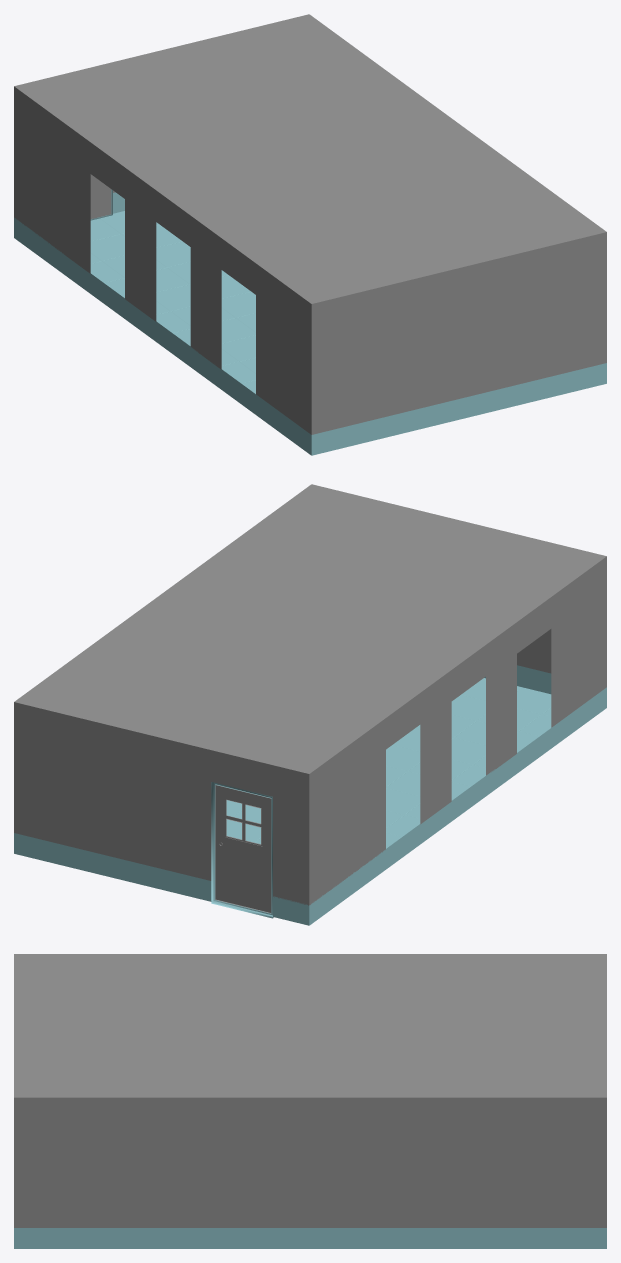
Rendered from HS_I_Background1_Model_V1.FBX.
3 views of the same model, one above another, from view 1: azimuth 30°, elevation 25°; view 2: azimuth 150°, elevation 25°; view 3: azimuth 270°, elevation 25° (orthographic).
Parts seen in each view (by area): view 1: W03, W11, W00; view 2: W03, W11, W00, W04; view 3: W03, W11.
Part boxes in pixels (x1=…): W03: x1=14, y1=14, x2=606, y2=434; W11: x1=14, y1=192, x2=606, y2=455; W00: x1=90, y1=174, x2=111, y2=218; W03: x1=14, y1=484, x2=606, y2=905; W11: x1=14, y1=665, x2=606, y2=925; W00: x1=215, y1=785, x2=271, y2=913; W04: x1=211, y1=782, x2=273, y2=918; W03: x1=14, y1=954, x2=606, y2=1227; W11: x1=14, y1=1228, x2=606, y2=1248.
Bounding box in the file's own units: 452 × 224 × 788.
